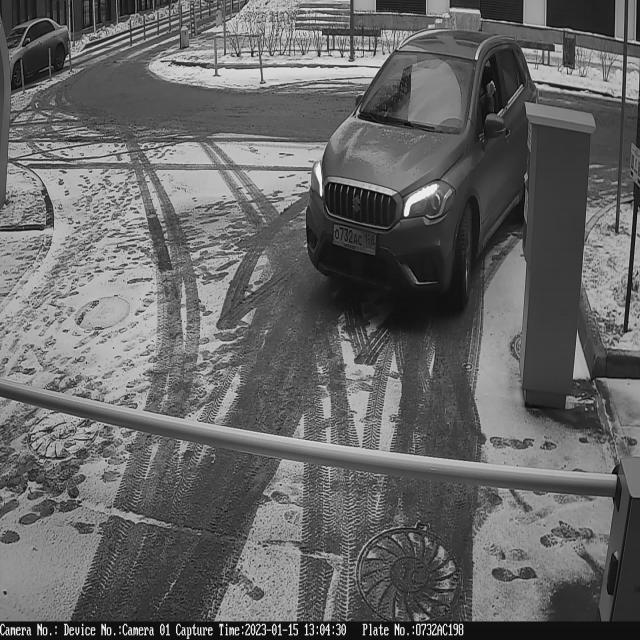car-plate-numbers: (332, 220, 381, 260)
